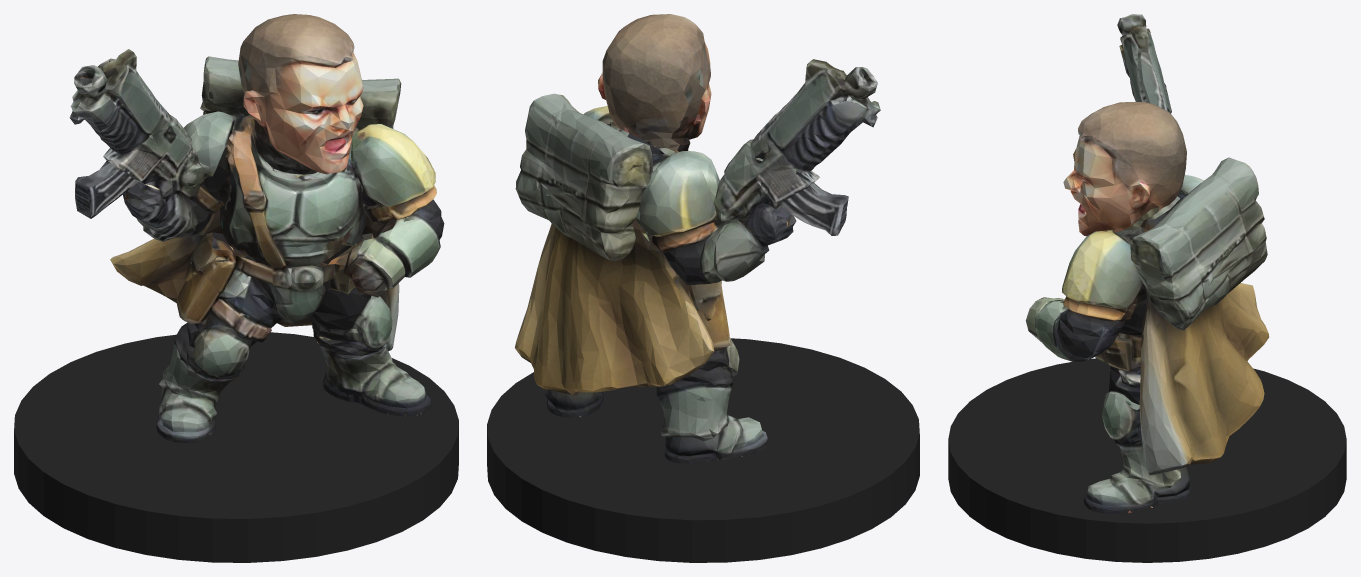
The model's file is ss-sergeant-boltgun.glb.
The picture shows the model from 3 angles, left to right: view 1: azimuth 30°, elevation 25°; view 2: azimuth 150°, elevation 25°; view 3: azimuth 270°, elevation 25°; orthographic projection. The views are drawn at different scales.
Parts seen in each view (by area): view 1: figure, base; view 2: figure, base; view 3: figure, base.
Boxes of the visible parts, bbox=[...] form: figure: bbox=[69, 14, 444, 442]; base: bbox=[14, 332, 458, 562]; figure: bbox=[515, 14, 880, 463]; base: bbox=[487, 338, 919, 562]; figure: bbox=[1025, 14, 1269, 513]; base: bbox=[948, 358, 1346, 562].
Size of the model in its own units: 1.1 by 1.22 by 1.1.
Materials: 2 (1 with a texture image).
